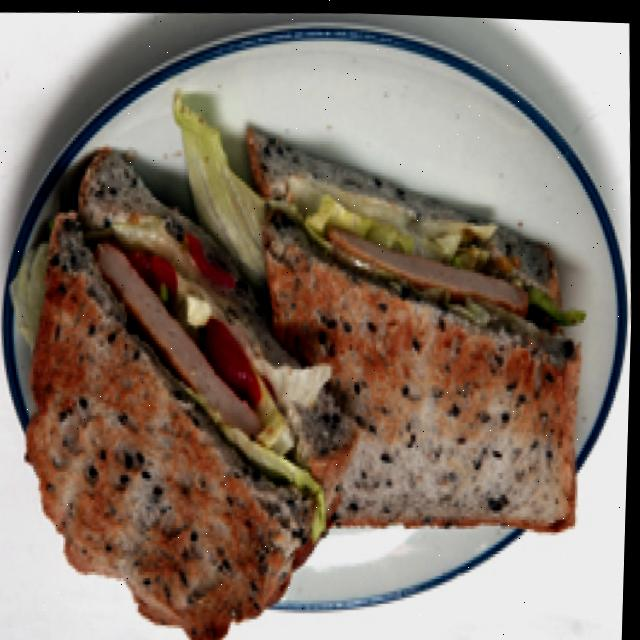面包点心: (0, 166, 598, 640)
